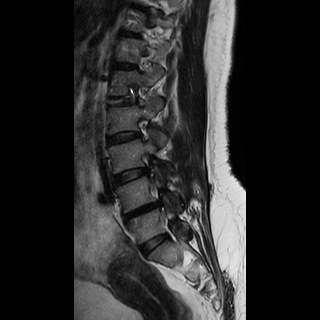RFS0: (132, 113, 154, 145)
